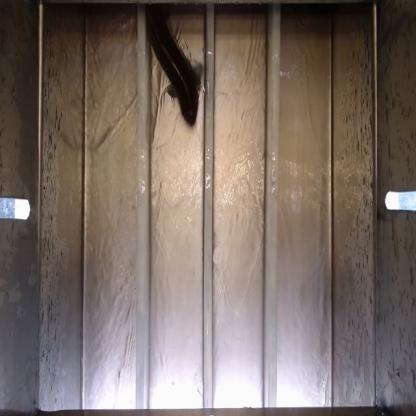pezw: (147, 15, 205, 131)
